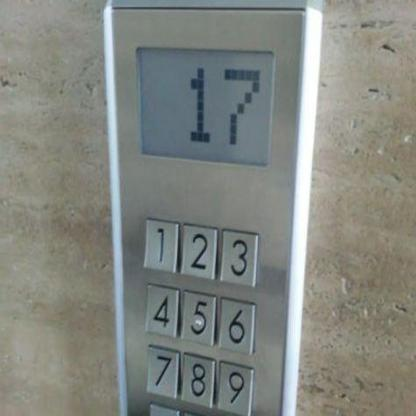1: (143, 215, 178, 275)
2: (180, 221, 218, 281)
3: (218, 227, 258, 289)
4: (144, 280, 178, 337)
5: (180, 287, 216, 349)
6: (216, 292, 255, 355)
7: (144, 342, 179, 400)
8: (179, 352, 215, 409)
9: (217, 360, 252, 415)
led: (135, 43, 276, 168)
